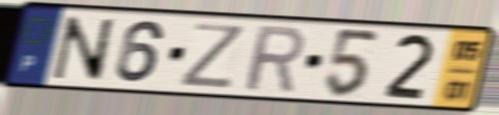2: (382, 32, 435, 102)
5: (321, 25, 384, 101)
6: (113, 18, 166, 86)
N: (50, 14, 116, 84)
R: (242, 23, 307, 95)
Z: (176, 21, 248, 91)
